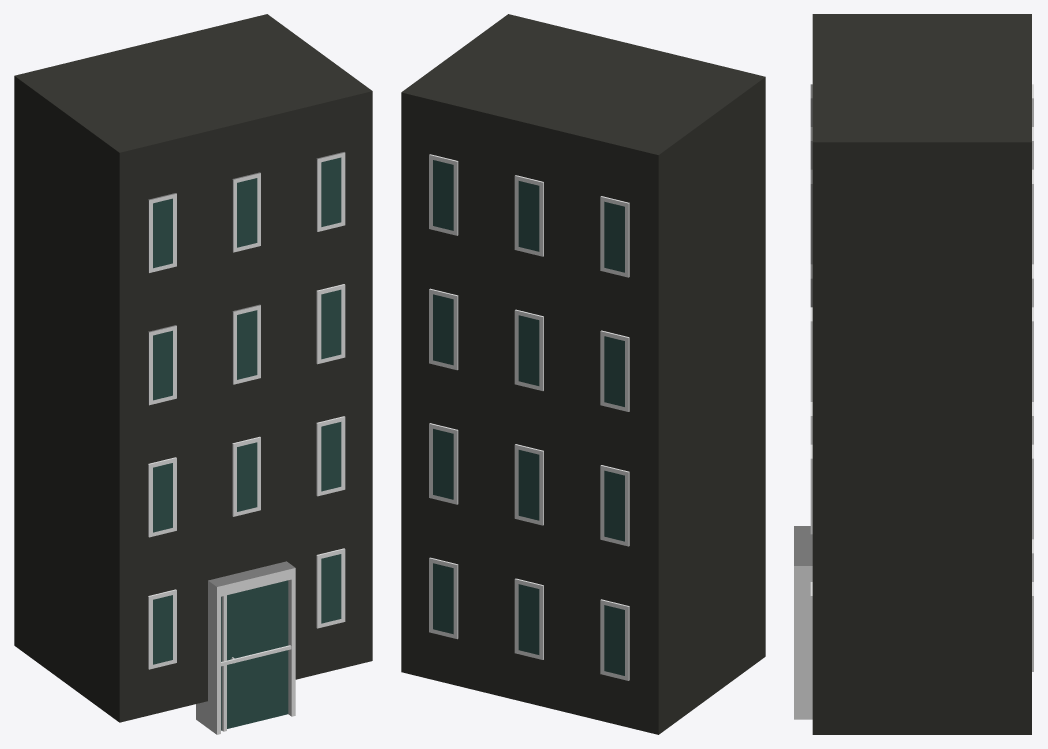
The model's file is building_Office.obj.
The picture shows the model from 3 angles, left to right: view 1: azimuth 30°, elevation 25°; view 2: azimuth 150°, elevation 25°; view 3: azimuth 270°, elevation 25°; orthographic projection. The views are drawn at different scales.
Visible parts, largest first — view 1: polySurface114; view 2: polySurface114; view 3: polySurface114.
Part boxes in pixels (<box>): polySurface114: <box>14,14,372,734</box>; polySurface114: <box>401,14,765,734</box>; polySurface114: <box>794,14,1033,734</box>.
Size of the model in its own units: 6.01 by 13.56 by 4.74.
